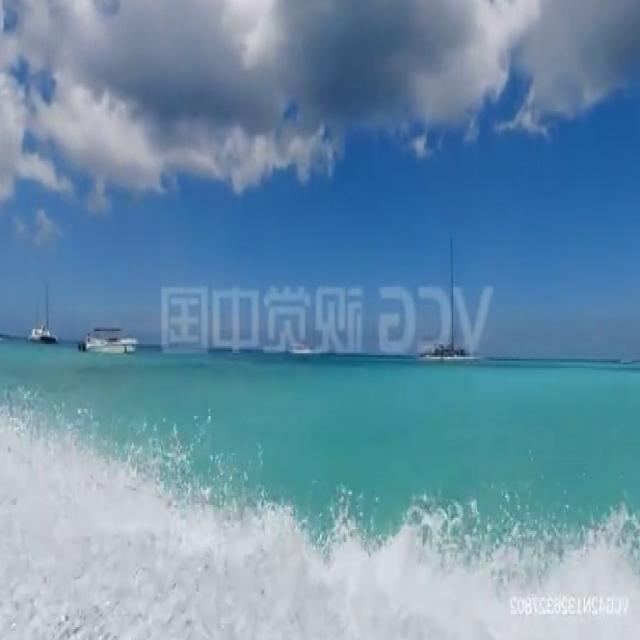houseboat: (77, 323, 142, 355)
sailboat: (419, 234, 479, 360), (29, 273, 59, 345)
